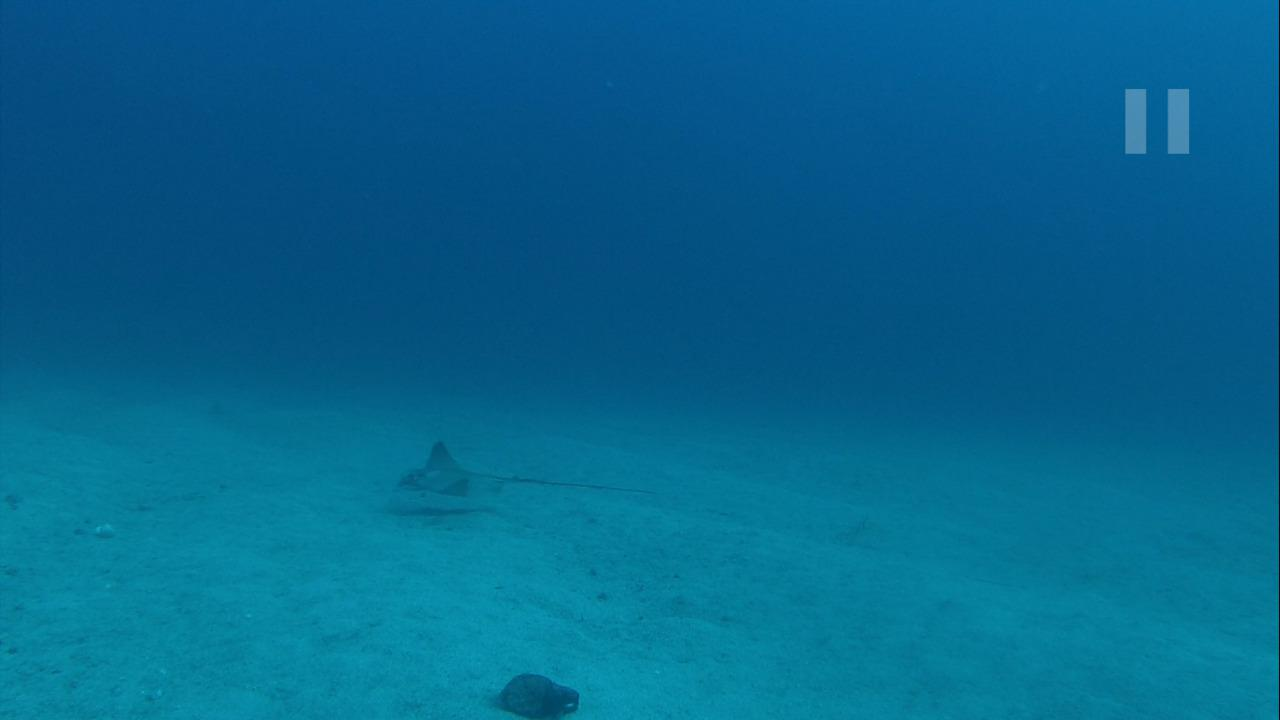myliobatis: (389, 436, 589, 500)
